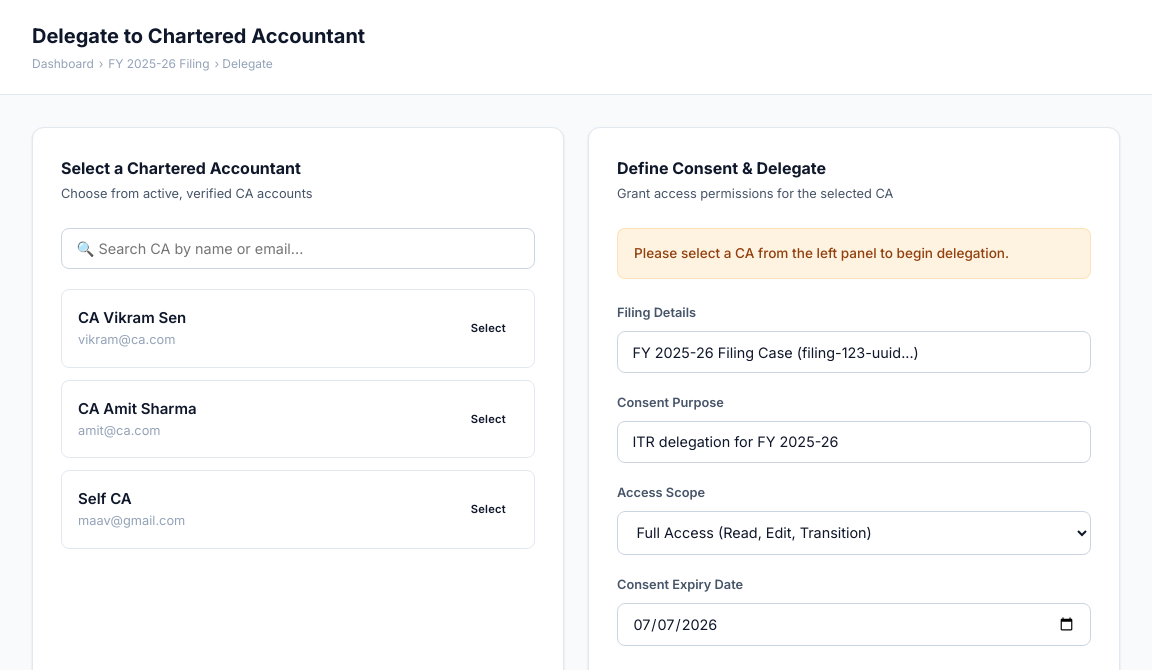
Scenario: CA Assignment Workflow › handles validation error for expired expiry date
The image size is (1152, 670).
# Select valid CA
Click the element with test id "ca-item-ca-1-uuid": (298, 329) [61,289,535,368]
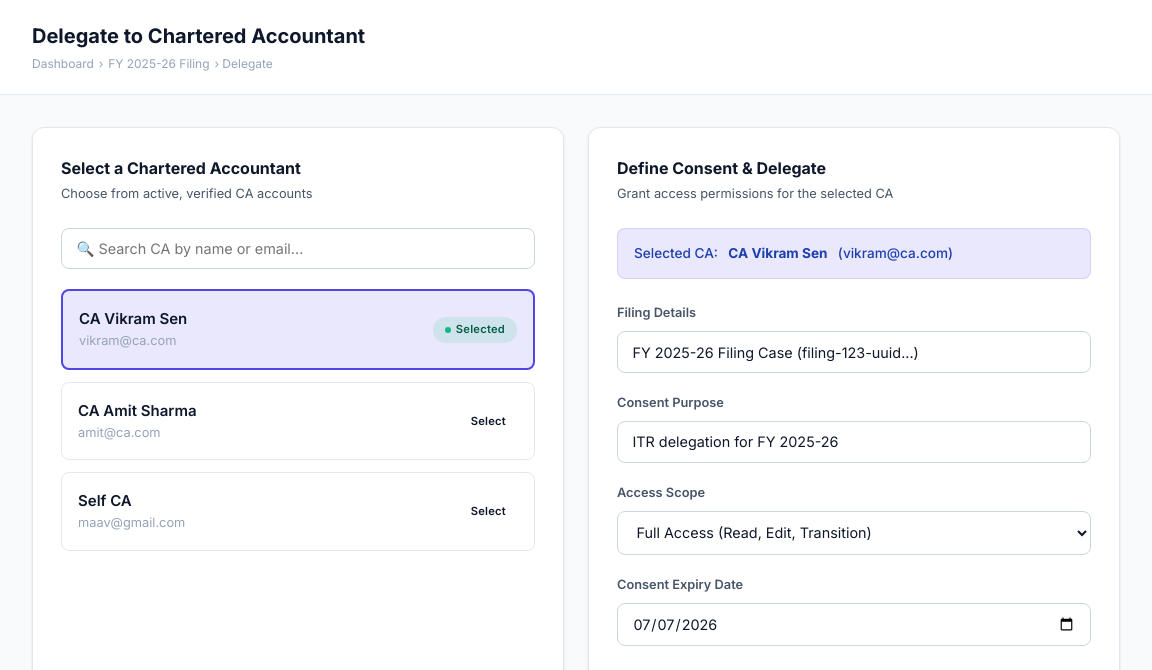
# Set an expired date in input
In the date field with test id "consent-expiry-input": (854, 625) [617,603,1091,646], type "2020-01-01"
(page scrolled)
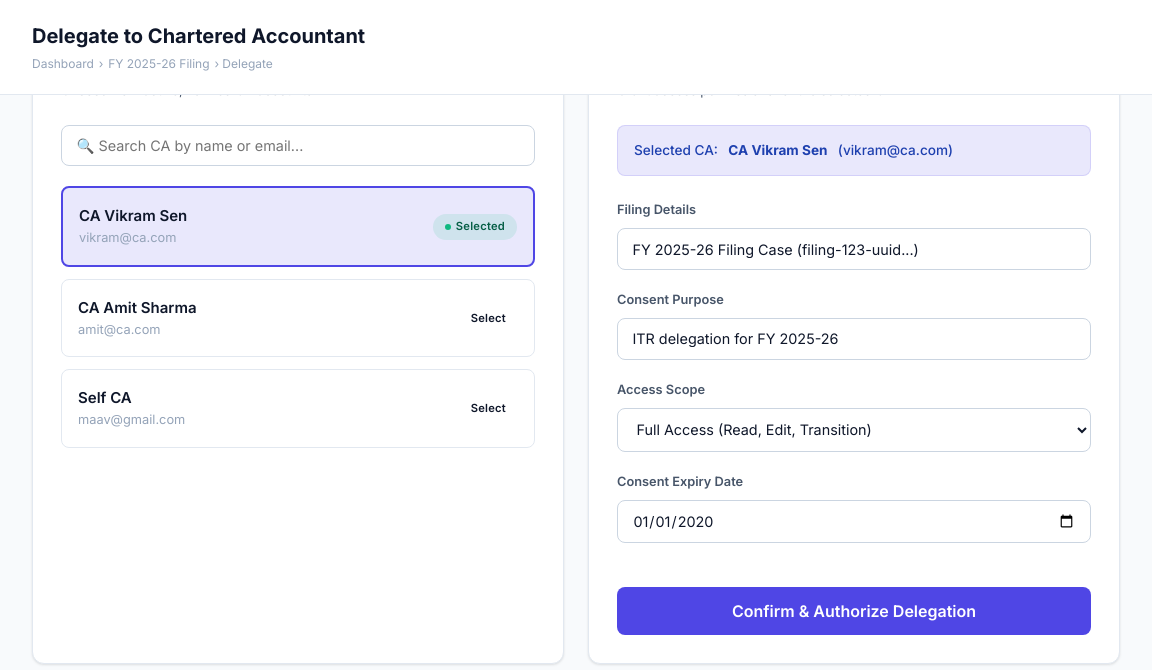
# Submit form
Submit the form with test id "consent-form", box [617,125,1091,634]
(page scrolled)
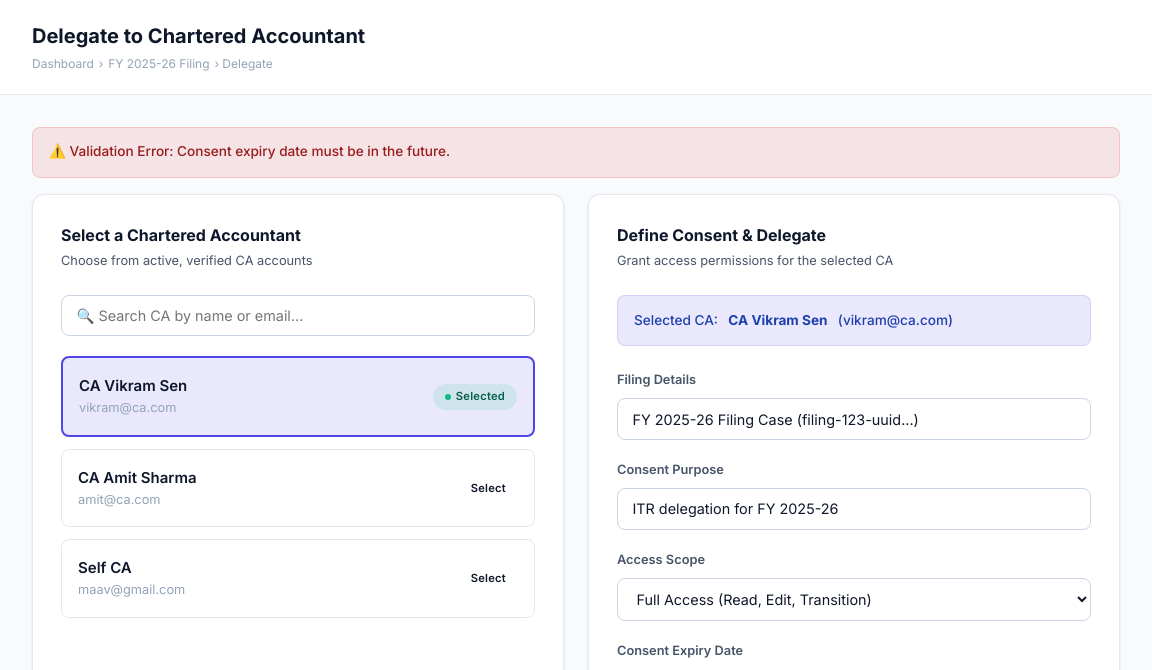
Result: the text with test id "error-alert" shows "Consent expiry date must be in the future." at [70,143,450,159]
